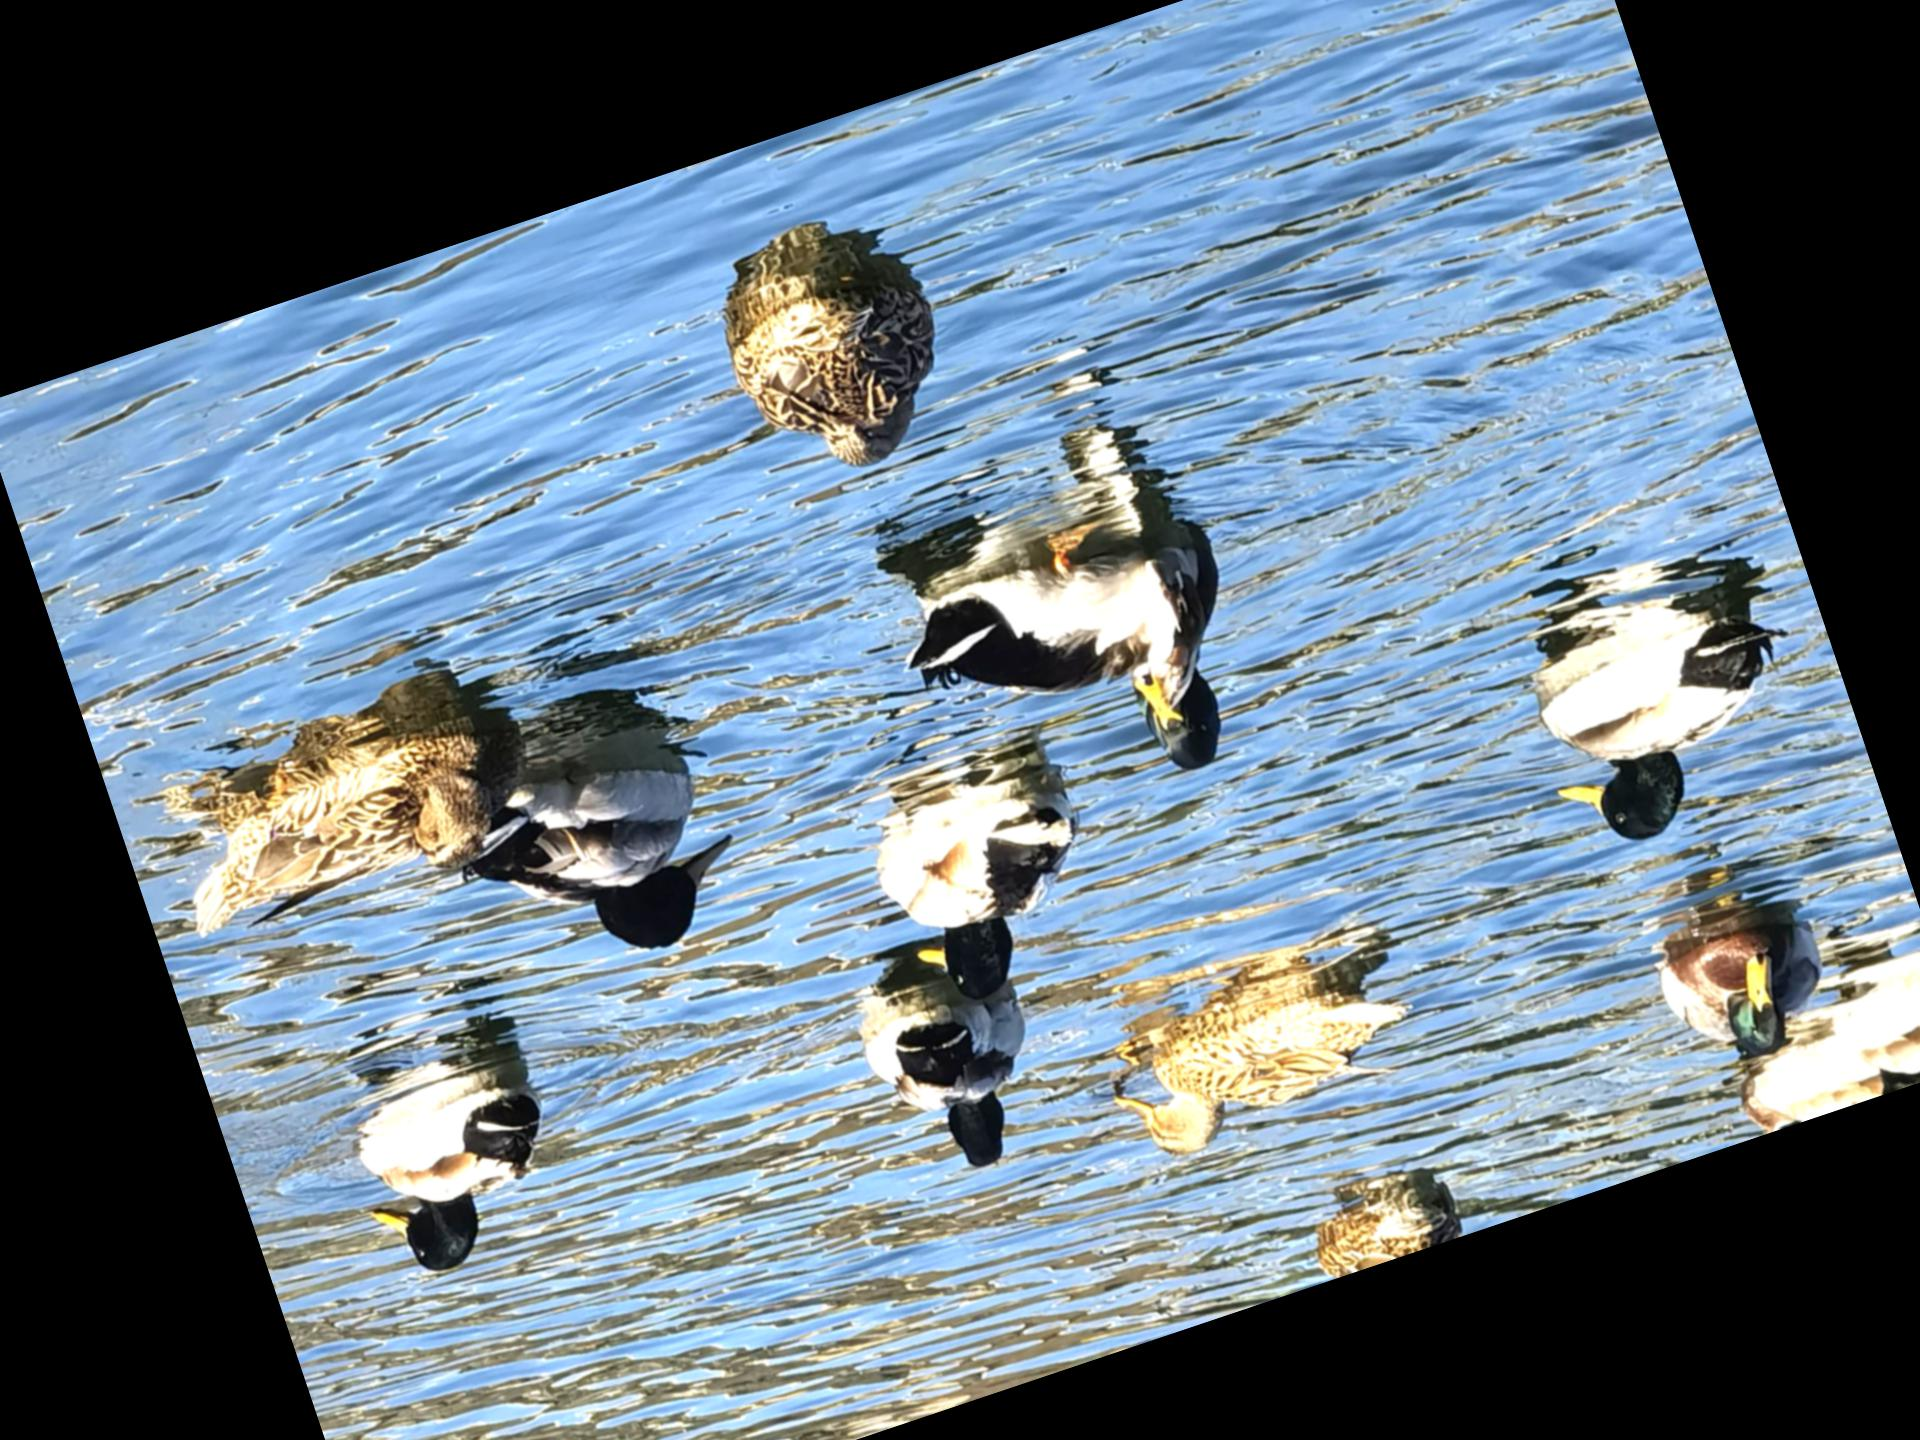duck: (851, 483, 1293, 879), (135, 678, 529, 959), (680, 203, 1008, 517), (1497, 575, 1829, 874), (419, 732, 770, 1013), (1081, 947, 1438, 1181), (838, 737, 1122, 1026), (325, 1029, 600, 1301), (827, 915, 1073, 1206), (1628, 886, 1858, 1106), (1284, 1160, 1474, 1286)
